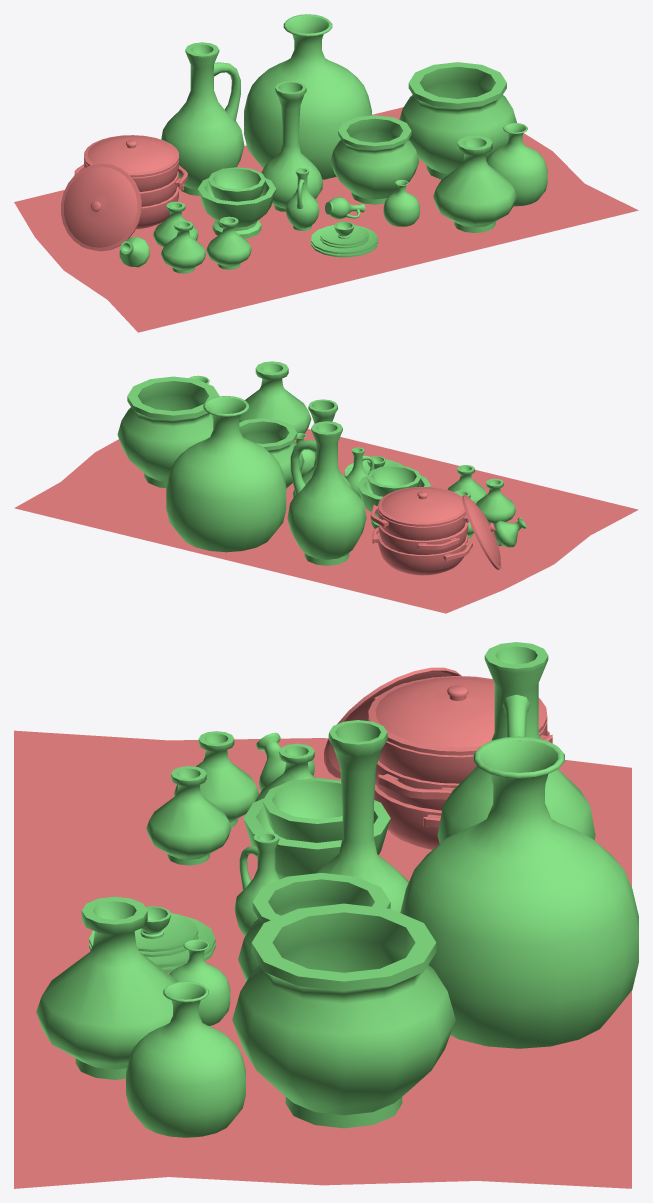
Rendered from Pots.fbx.
The picture shows the model from 3 angles, top to bottom: view 1: azimuth 30°, elevation 25°; view 2: azimuth 150°, elevation 25°; view 3: azimuth 270°, elevation 25°; orthographic projection. The views are drawn at different scales.
Parts seen in each view (by area): view 1: Plane001, Vase, Vase_4, Vase_2, Vase_005, CookingPot_Lid001, Vase_3, Vase_1, CookingPot_Lid, Vase001, Mortar, Mortar002 (+12 smaller); view 2: Plane001, Vase, Vase_2, Vase_4, CookingPot_Lid, Vase_3, Vase_005, CookingPot, CookingPot_3, CookingPot_2, Mortar002, CookingPot_Lid001 (+6 smaller); view 3: Plane001, Vase, Vase_4, Vase_3, Vase001, Vase_2, CookingPot_Lid, Vase_1, Vase_010, Vase_005, Mortar002, Vase_011 (+11 smaller).
Part boxes in pixels (bbox=[...]): Plane001: bbox=[14, 107, 638, 332]; Vase: bbox=[244, 14, 371, 179]; Vase_4: bbox=[399, 62, 516, 179]; Vase_2: bbox=[161, 42, 244, 195]; Vase_005: bbox=[330, 115, 419, 204]; CookingPot_Lid001: bbox=[61, 163, 141, 251]; Vase_3: bbox=[433, 135, 516, 232]; Vase_1: bbox=[261, 81, 322, 211]; CookingPot_Lid: bbox=[84, 135, 179, 177]; Vase001: bbox=[486, 123, 547, 206]; Mortar: bbox=[198, 178, 276, 238]; Mortar002: bbox=[208, 167, 265, 201]; Plane001: bbox=[14, 429, 638, 613]; Vase: bbox=[166, 396, 286, 552]; Vase_2: bbox=[287, 421, 366, 565]; Vase_4: bbox=[117, 376, 219, 488]; CookingPot_Lid: bbox=[378, 487, 465, 526]; Vase_3: bbox=[239, 361, 311, 439]; Vase_005: bbox=[239, 418, 304, 488]; CookingPot: bbox=[372, 527, 472, 575]; CookingPot_3: bbox=[370, 504, 468, 540]; CookingPot_2: bbox=[378, 522, 468, 554]; Mortar002: bbox=[367, 465, 421, 496]; CookingPot_Lid001: bbox=[462, 494, 501, 569]; Plane001: bbox=[14, 730, 631, 1188]; Vase: bbox=[400, 736, 638, 1048]; Vase_4: bbox=[232, 903, 455, 1128]; Vase_3: bbox=[36, 896, 178, 1079]; Vase001: bbox=[126, 981, 245, 1137]; Vase_2: bbox=[437, 642, 595, 843]; CookingPot_Lid: bbox=[368, 676, 547, 755]; Vase_1: bbox=[316, 720, 408, 912]; Vase_010: bbox=[146, 766, 231, 865]; Vase_005: bbox=[238, 872, 390, 981]; Mortar002: bbox=[262, 778, 342, 842]; Vase_011: bbox=[174, 731, 258, 827].
Size of the model in its own units: 169 by 45.07 by 97.27.
